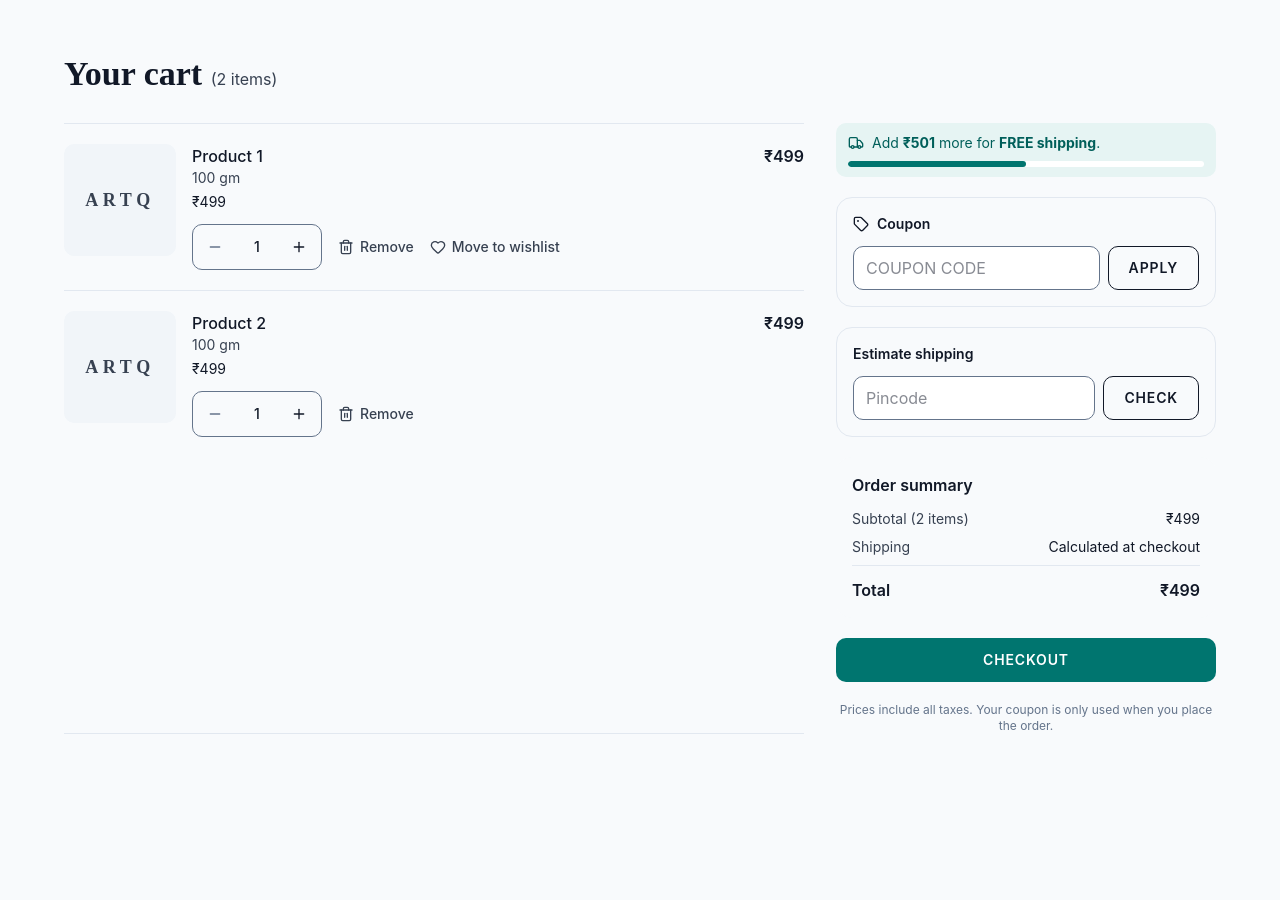
Test: cart page › move to wishlist: saved (guest list) and removed from the cart; already-saved items do not offer it
Click the button with aria-label "Move Product 1 (100 gm) to your wishlist" at (495, 247), box [430,225,560,269]
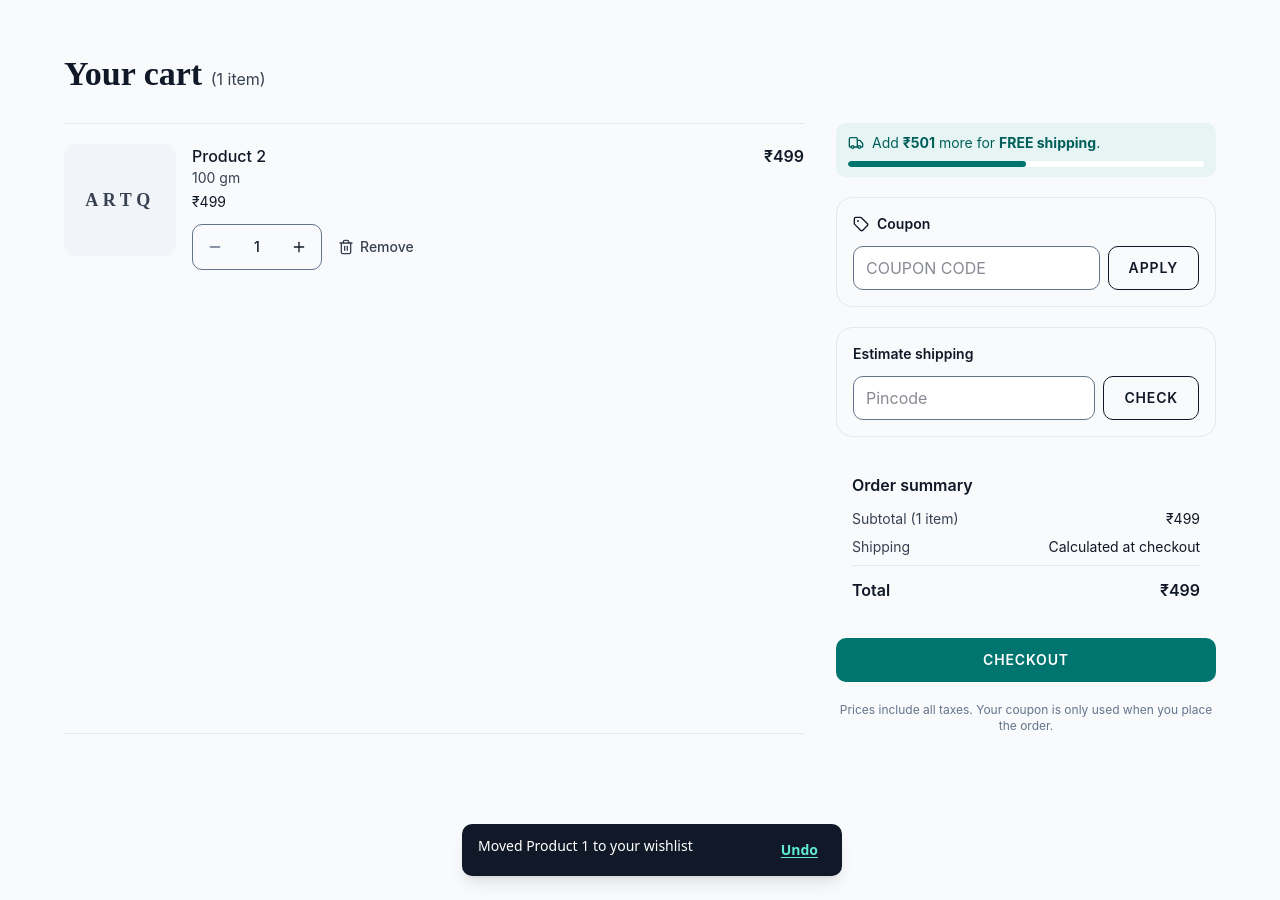
Expected: the text "Moved Product 1 to your wishlist" is shown, [478,836,693,856]
